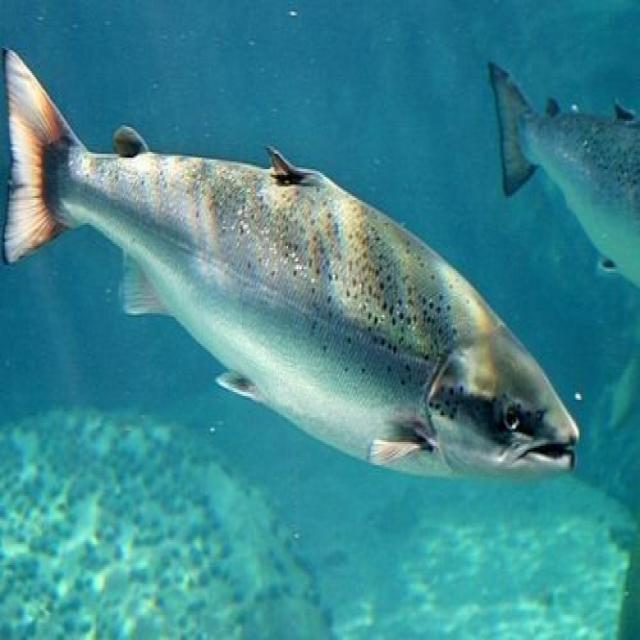grouper: (1, 36, 592, 492)
